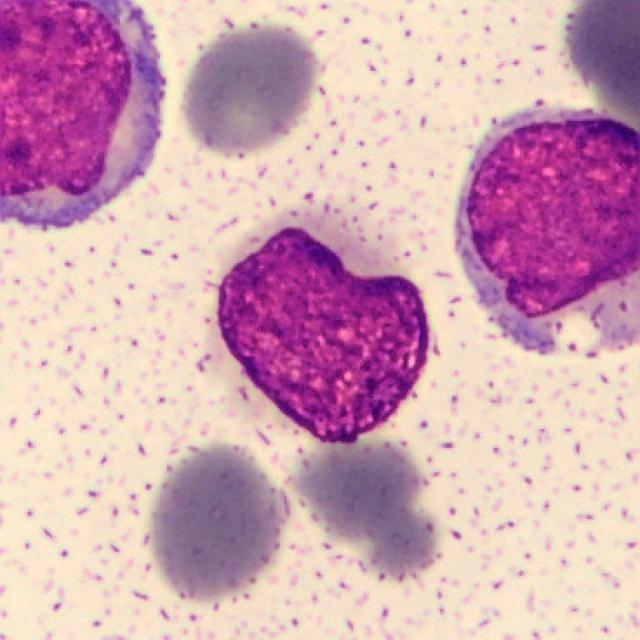Mieloblasto: (454, 109, 640, 355), (0, 0, 167, 228)
Restos celulares: (216, 228, 431, 445)
